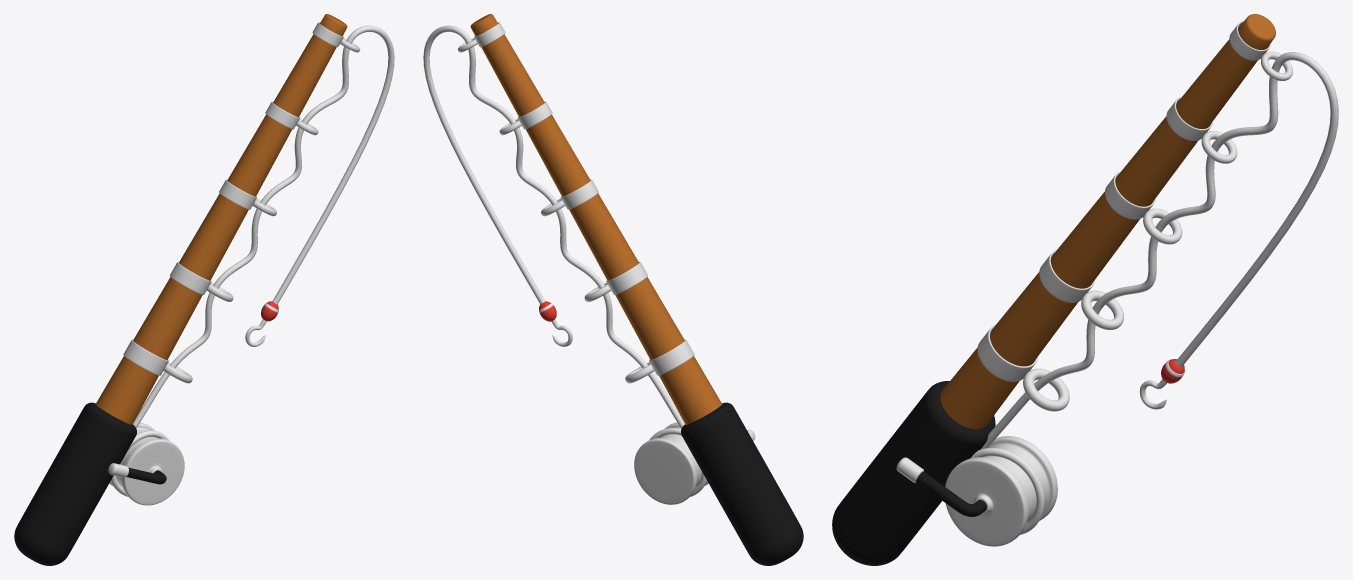
The model's file is Fishing Rod.fbx.
The picture shows the model from 3 angles, left to right: view 1: azimuth 30°, elevation 25°; view 2: azimuth 150°, elevation 25°; view 3: azimuth 330°, elevation 25°; orthographic projection. The views are drawn at different scales.
Parts seen in each view (by area): view 1: Body, Handle, Fishing Thread, Spinning Reels, Section, Section.001, Section.002, Section.003; view 2: Body, Handle, Fishing Thread, Spinning Reels, Section, Section.001, Section.002, Section.003; view 3: Body, Handle, Fishing Thread, Spinning Reels, Section, Line Guide.004, Lever.001, Section.001, Line Guide.003, Section.002, Line Guide.002, Section.003 (+1 smaller).
Boxes of the visible parts, x1,y1,x2,y2 form: Body: [95, 14, 347, 424]; Handle: [14, 402, 136, 565]; Fishing Thread: [111, 25, 394, 496]; Spinning Reels: [109, 422, 184, 505]; Section: [123, 339, 168, 375]; Section.001: [170, 262, 211, 294]; Section.002: [219, 179, 257, 209]; Section.003: [265, 101, 300, 129]; Body: [470, 14, 722, 424]; Handle: [681, 402, 803, 565]; Fishing Thread: [423, 25, 706, 496]; Spinning Reels: [634, 422, 708, 504]; Section: [649, 339, 694, 375]; Section.001: [606, 262, 647, 294]; Section.002: [560, 179, 598, 209]; Section.003: [517, 101, 552, 129]; Body: [940, 14, 1275, 429]; Handle: [832, 381, 995, 565]; Fishing Thread: [970, 52, 1338, 534]; Spinning Reels: [945, 436, 1057, 546]; Section: [977, 324, 1037, 381]; Line Guide.004: [1023, 368, 1069, 411]; Lever.001: [916, 471, 986, 516]; Section.001: [1039, 250, 1094, 302]; Line Guide.003: [1081, 290, 1123, 329]; Section.002: [1105, 171, 1155, 219]; Line Guide.002: [1143, 208, 1182, 244]; Section.003: [1166, 96, 1212, 140].
Size of the model in its own units: 184 by 223 by 34.46.
